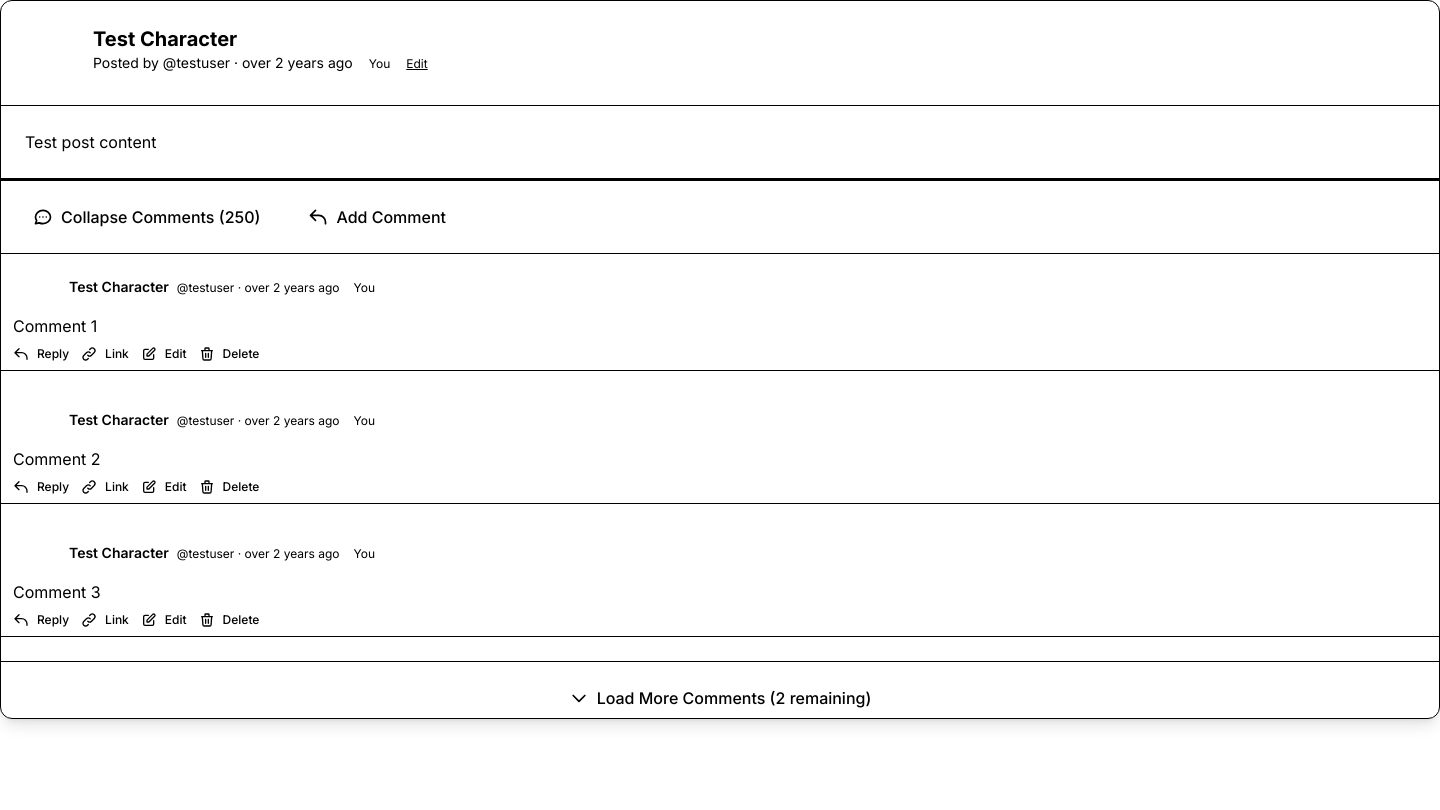
Test: PostCard - Load More Comments › should append new comments to existing tree when loading more
// Click Load More
Click the button "Load More Comments (2 remaining)": (720, 698) top-left (553, 678), bottom-right (887, 718)
(page scrolled)
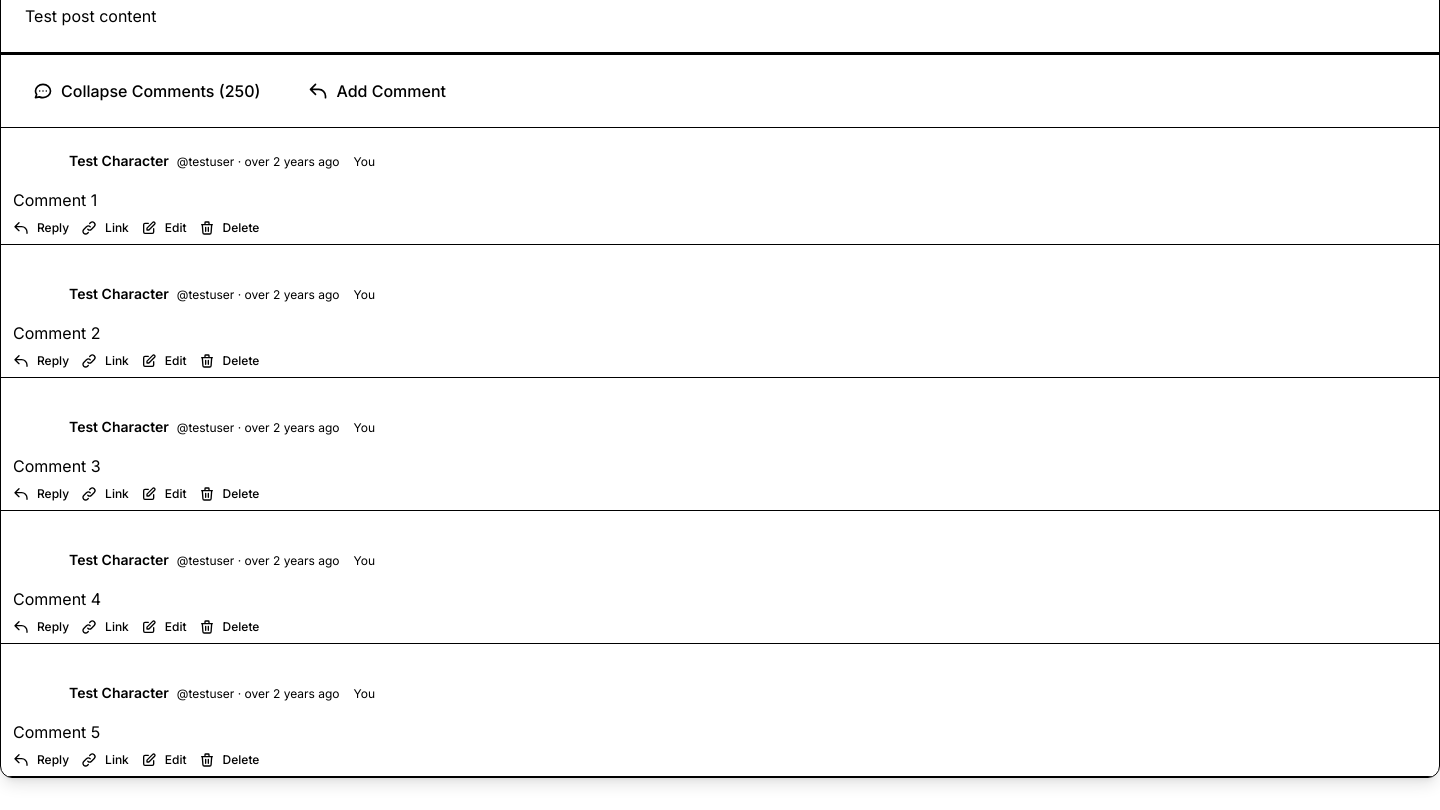
Check: the text "Comment 1" is shown, box top-left (13, 190), bottom-right (97, 210)
Check: the text "Comment 4" is shown, box top-left (13, 589), bottom-right (101, 609)
Check: the text "Comment 5" is shown, box top-left (13, 722), bottom-right (100, 742)
